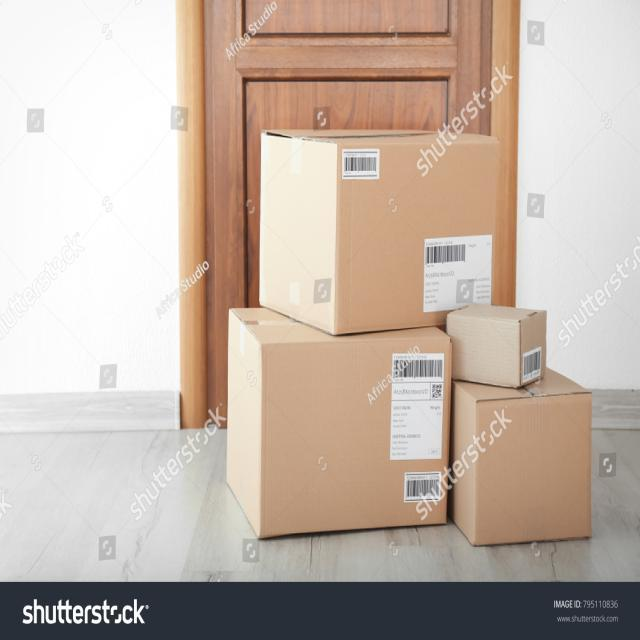BoxFace: (260, 340, 452, 534), (331, 136, 492, 336), (474, 389, 592, 548), (448, 312, 521, 389)
